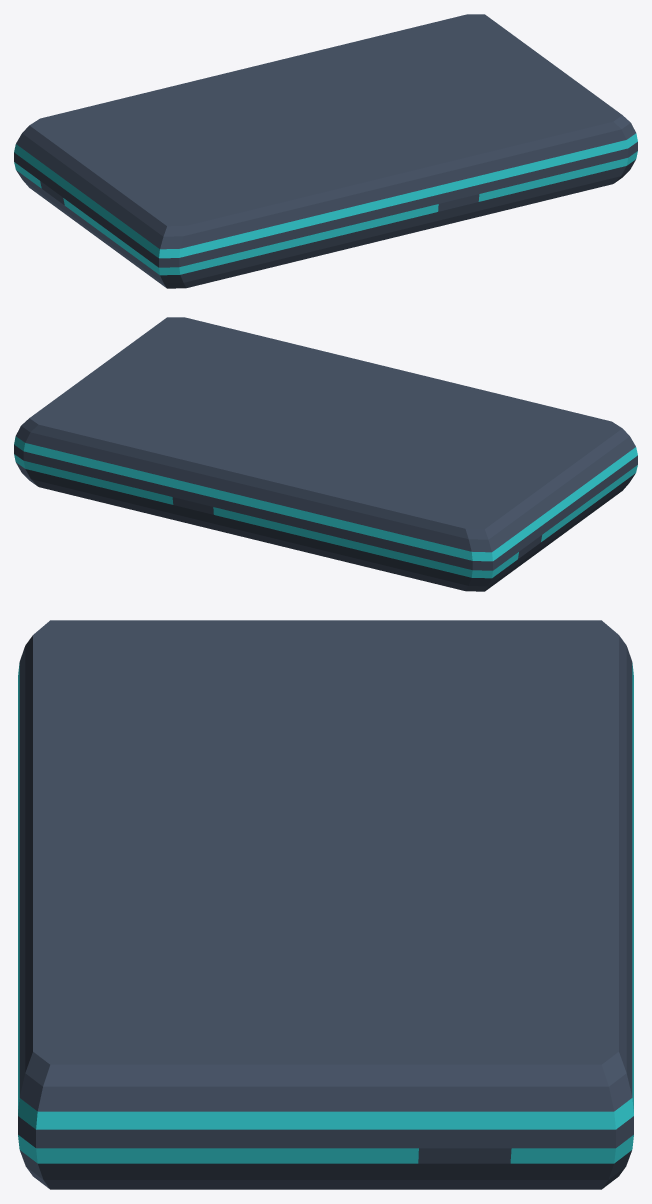
Rendered from Bar_One.fbx.
3 renders of one model, top to bottom at view 1: azimuth 30°, elevation 25°; view 2: azimuth 150°, elevation 25°; view 3: azimuth 270°, elevation 25°, orthographic. The views are drawn at different scales.
Visible parts, largest first — view 1: Cube; view 2: Cube; view 3: Cube.
Boxes of the visible parts, box(x1,y1,x2,y2) form: Cube: box(14, 14, 637, 288); Cube: box(14, 317, 637, 591); Cube: box(18, 620, 633, 1189).
Bounding box in the file's own units: 963 × 120 × 537.
